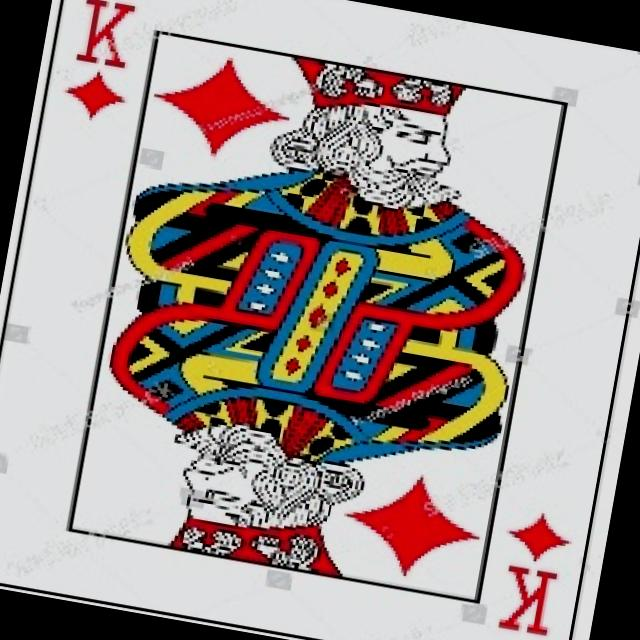Diamond: (335, 462, 488, 588), (144, 45, 298, 168), (60, 64, 130, 125), (503, 506, 572, 566)
King: (497, 564, 558, 636), (75, 0, 137, 69)
